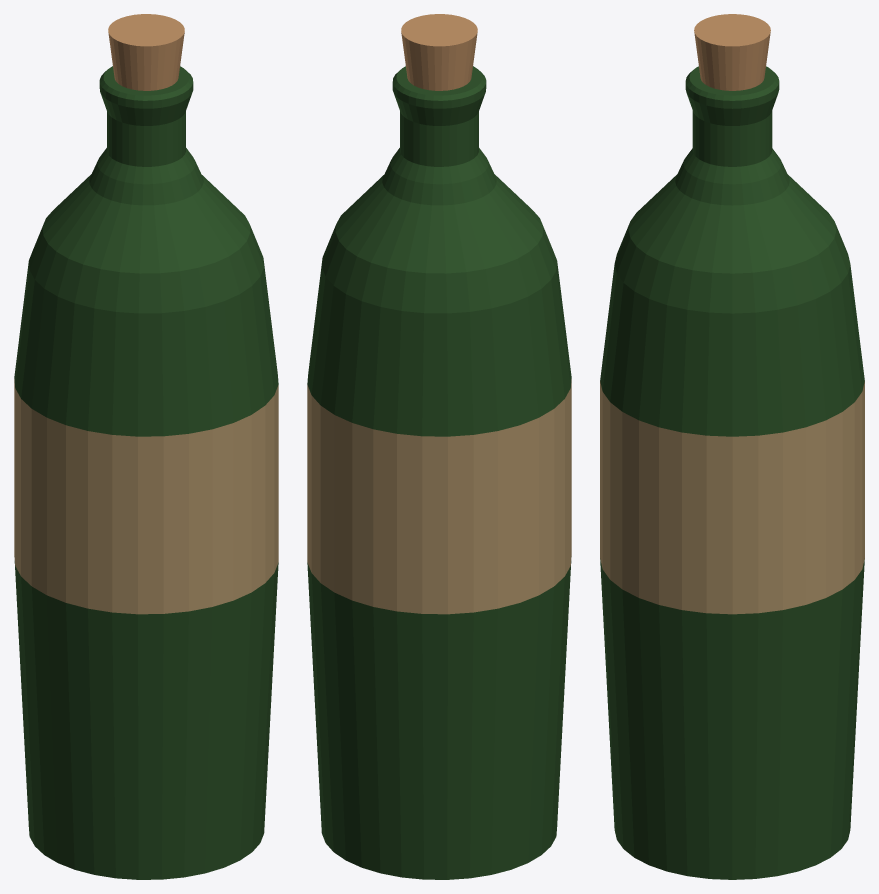
Rendered from WineBottle2_Green.fbx.
3 views of the same model, side by side, from view 1: azimuth 30°, elevation 25°; view 2: azimuth 150°, elevation 25°; view 3: azimuth 270°, elevation 25° (orthographic).
Parts seen in each view (by area): view 1: WineBottle V2 Green; view 2: WineBottle V2 Green; view 3: WineBottle V2 Green.
Part boxes in pixels (x1=…): WineBottle V2 Green: x1=14, y1=14, x2=278, y2=879; WineBottle V2 Green: x1=307, y1=14, x2=571, y2=879; WineBottle V2 Green: x1=600, y1=14, x2=864, y2=879.
Size of the model in its own units: 7.5 by 25 by 7.5.
